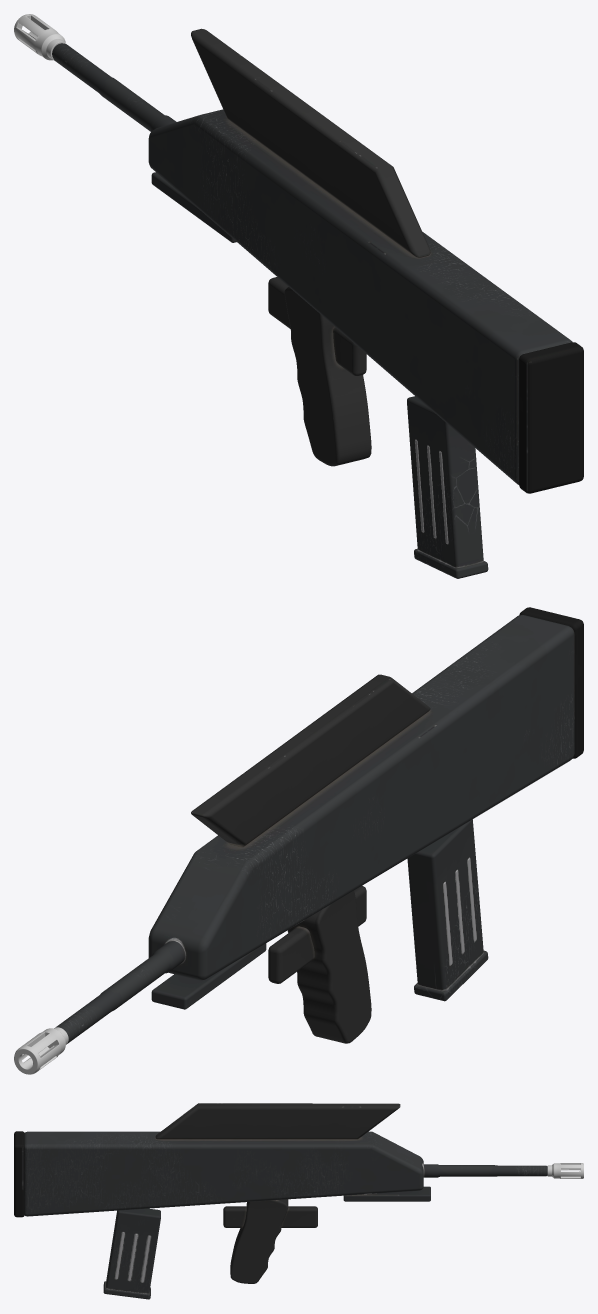
Rendered from famas.gltf.
3 renders of one model, top to bottom at view 1: azimuth 30°, elevation 25°; view 2: azimuth 150°, elevation 25°; view 3: azimuth 270°, elevation 25°, orthographic. The views are drawn at different scales.
Visible parts, largest first — view 1: Frame, Mag_body, Stock, FlashHider; view 2: Frame, Mag_body, Stock, FlashHider; view 3: Frame, Mag_body, Stock, FlashHider.
Part boxes in pixels (box(x1,y1,x2,y2)): Frame: box(52, 28, 572, 484); Mag_body: box(407, 396, 488, 578); Stock: box(519, 342, 583, 493); FlashHider: box(14, 14, 65, 60); Frame: box(55, 615, 574, 1043); Mag_body: box(407, 819, 488, 1001); Stock: box(519, 607, 583, 758); FlashHider: box(14, 1027, 68, 1074); Frame: box(24, 1103, 547, 1283); Mag_body: box(103, 1208, 160, 1299); Stock: box(14, 1131, 24, 1217); FlashHider: box(547, 1163, 583, 1178).
Bounding box in the file's own units: 0.05 × 0.289 × 0.7825.
